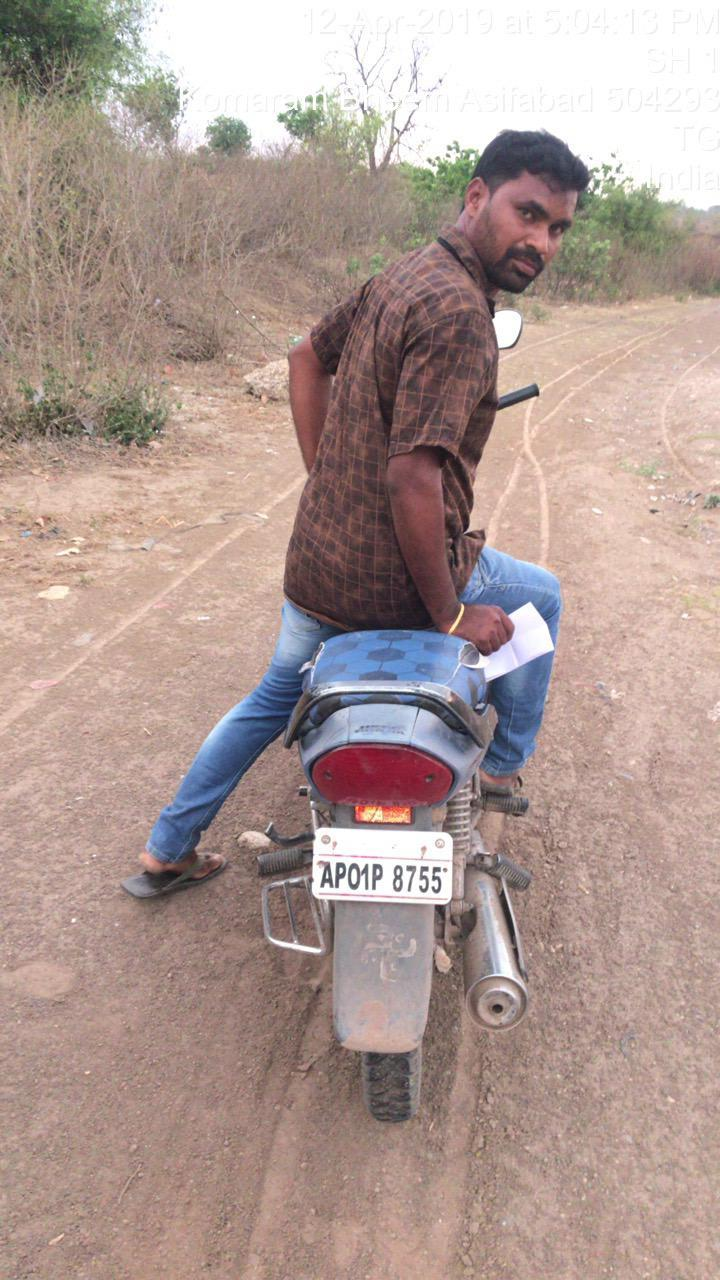plate: (293, 817, 468, 921)
